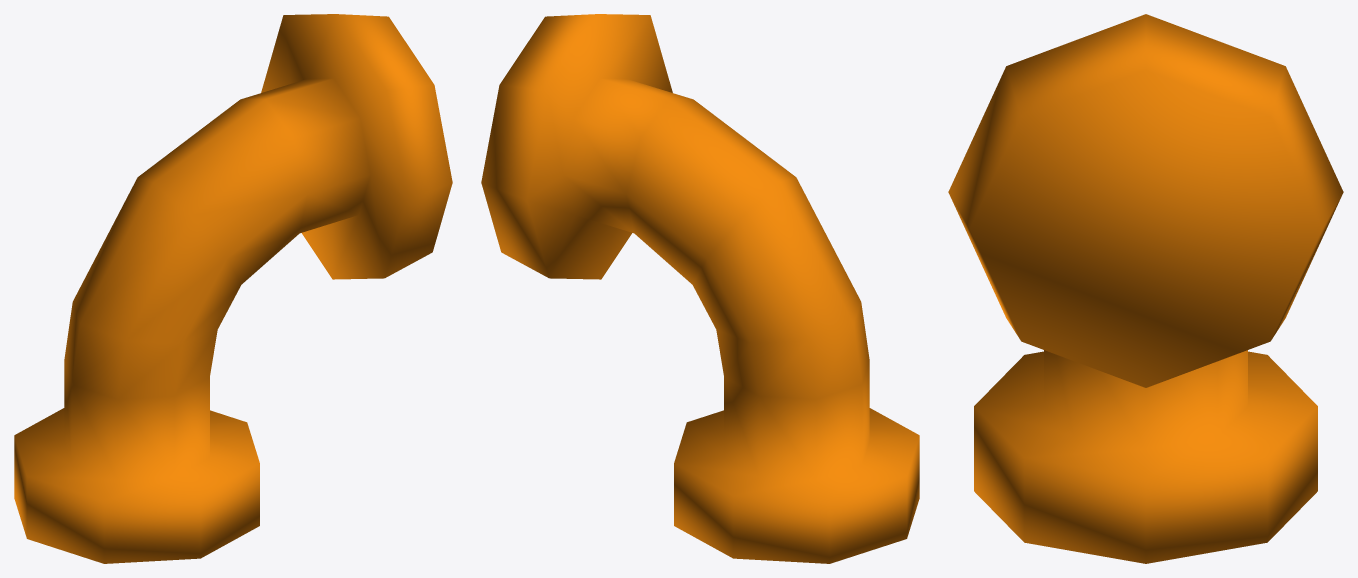
Rendered from Pipe_Elbow.fbx.
3 renders of one model, left to right at view 1: azimuth 30°, elevation 25°; view 2: azimuth 150°, elevation 25°; view 3: azimuth 270°, elevation 25°, orthographic. The views are drawn at different scales.
Visible parts, largest first — view 1: Cylinder.006; view 2: Cylinder.006; view 3: Cylinder.006.
Part boxes in pixels (x1,y1,x2,y2): Cylinder.006: [14, 14, 452, 563]; Cylinder.006: [481, 14, 919, 563]; Cylinder.006: [948, 14, 1343, 563].
Size of the model in its own units: 108 by 128 by 75.45.
